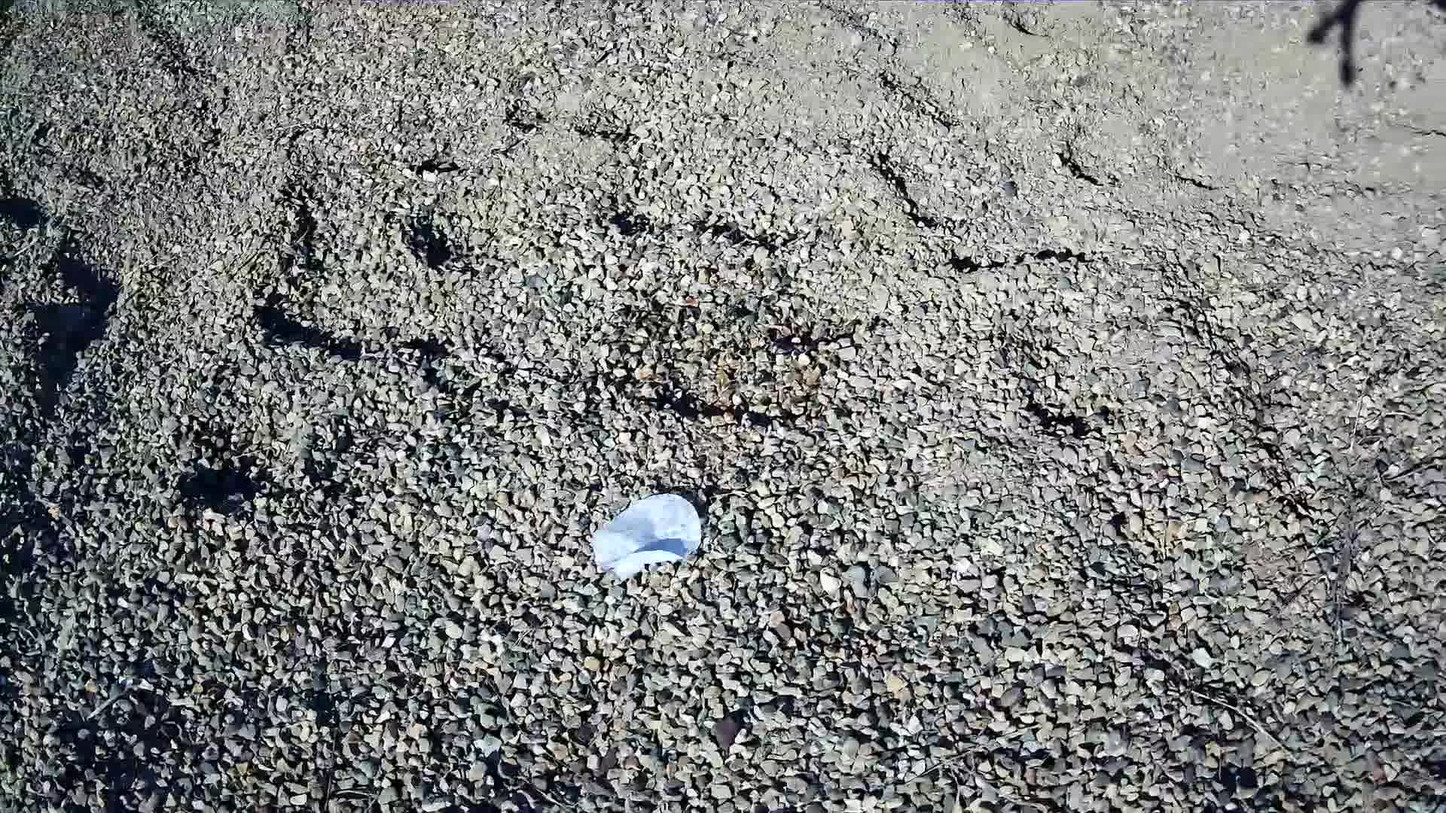Target: (590, 491, 701, 573)
